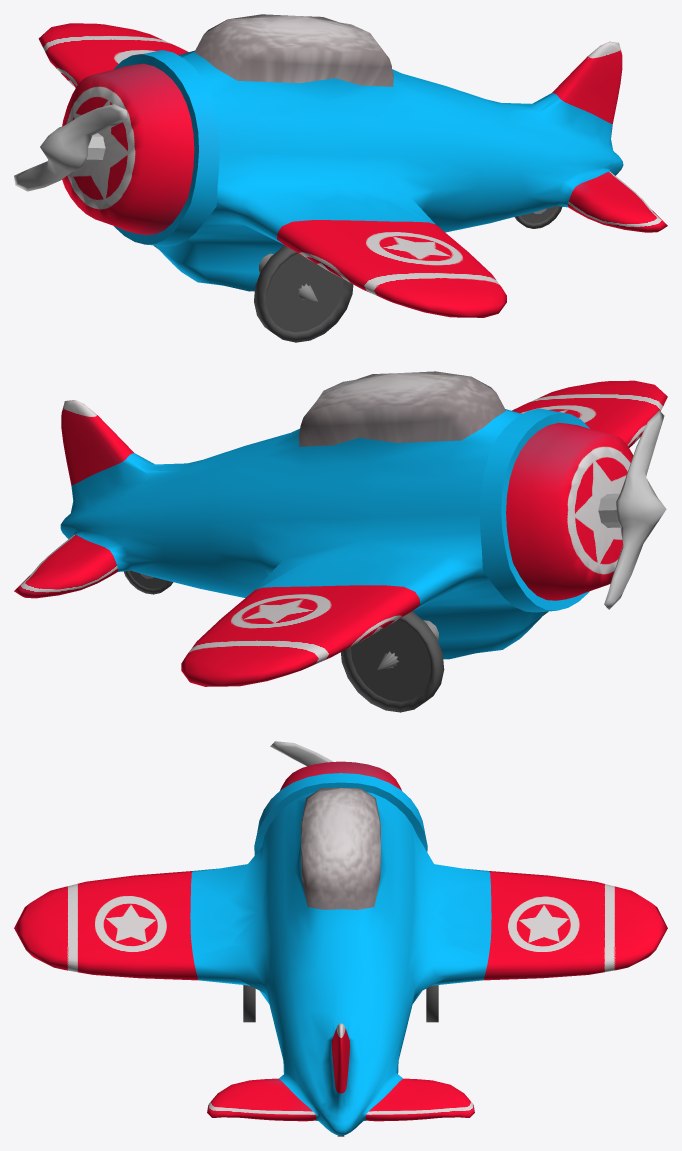
The model's file is AirplaneFBX.fbx.
3 renders of one model, top to bottom at view 1: azimuth 30°, elevation 25°; view 2: azimuth 150°, elevation 25°; view 3: azimuth 270°, elevation 25°, orthographic. The views are drawn at different scales.
Visible parts, largest first — view 1: polySurface1, polySurface4, polySurface7, polySurface5; view 2: polySurface1, polySurface2, polySurface7, polySurface5; view 3: polySurface1, polySurface7.
Boxes of the visible parts, <box> form: polySurface1: <box>38,14,667,317</box>; polySurface4: <box>254,245,353,342</box>; polySurface7: <box>14,104,127,191</box>; polySurface5: <box>514,206,562,228</box>; polySurface1: <box>14,371,667,686</box>; polySurface2: <box>341,612,444,712</box>; polySurface7: <box>598,410,666,609</box>; polySurface5: <box>123,570,173,594</box>; polySurface1: <box>14,761,667,1135</box>; polySurface7: <box>270,741,333,766</box>.
Bounding box in the file's own units: 21.86 × 9.79 × 25.74.
